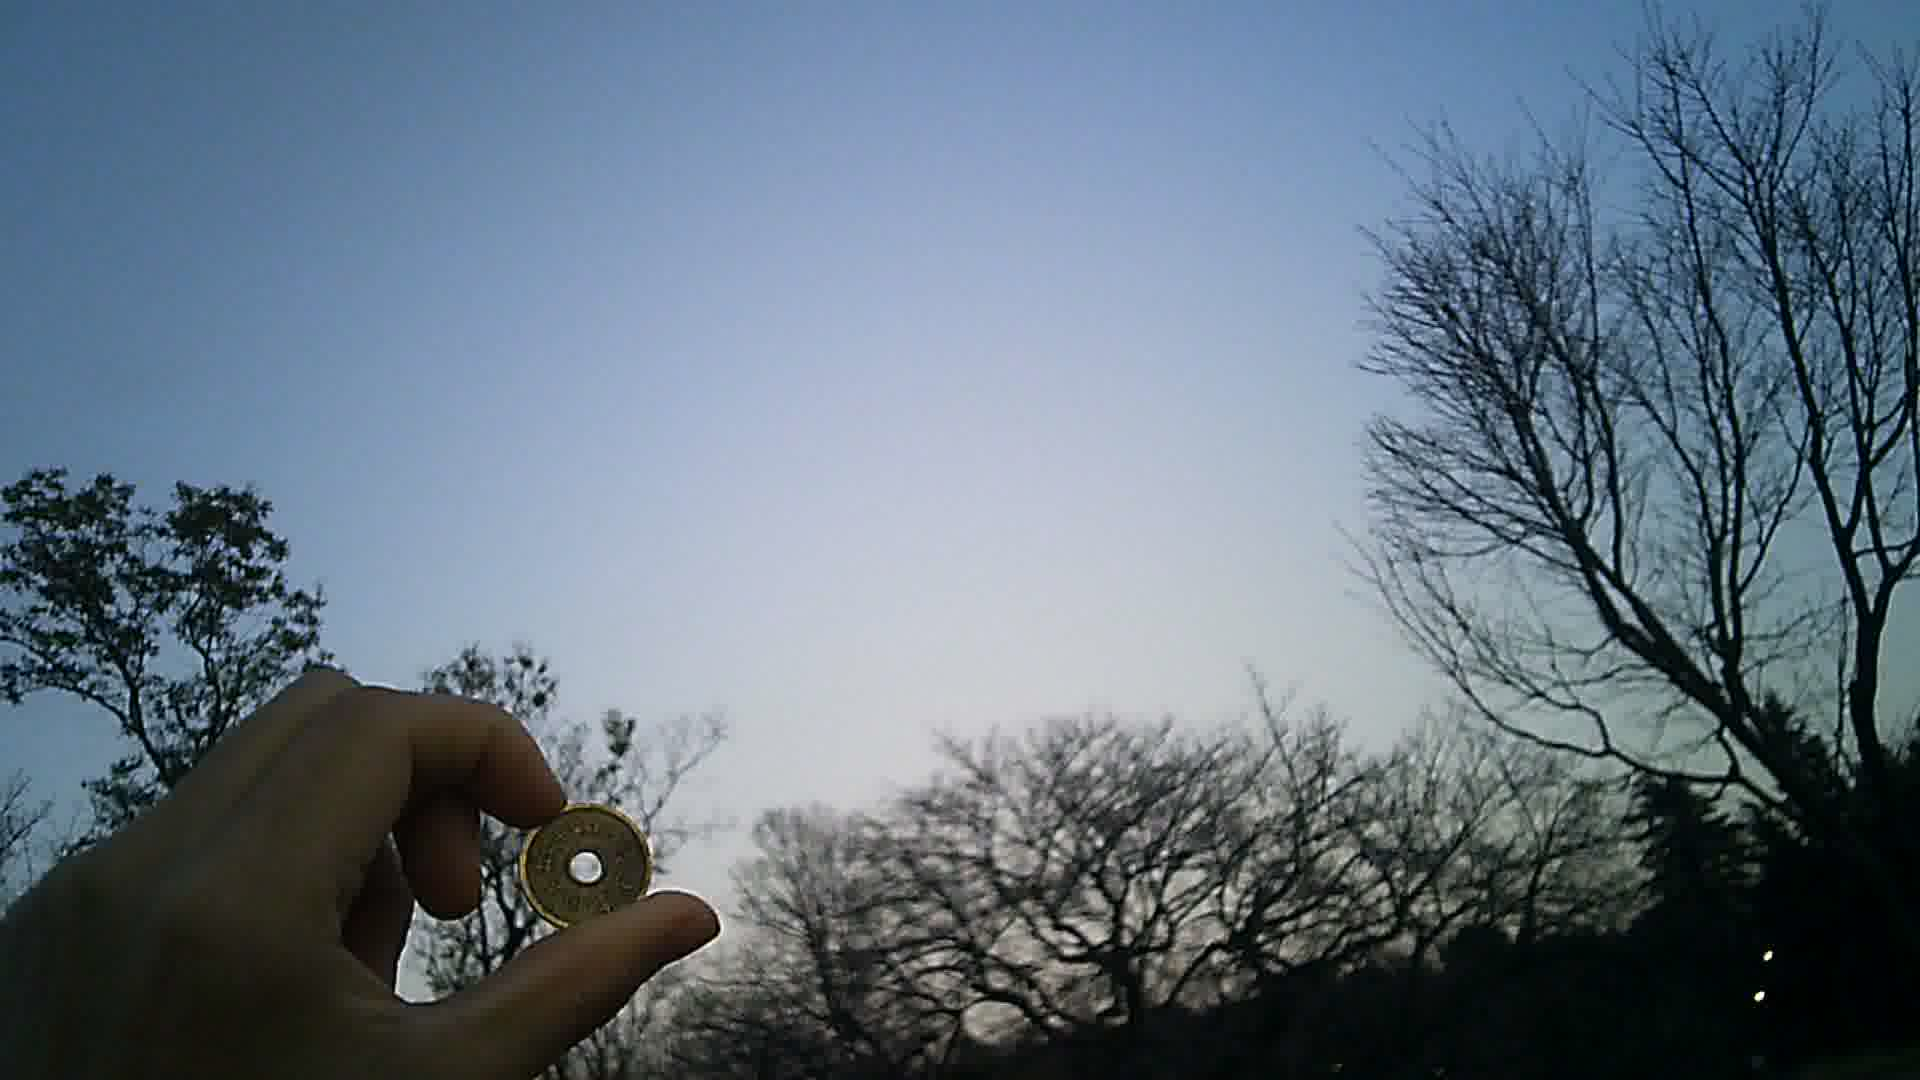5 Yen: (524, 794, 657, 934)
